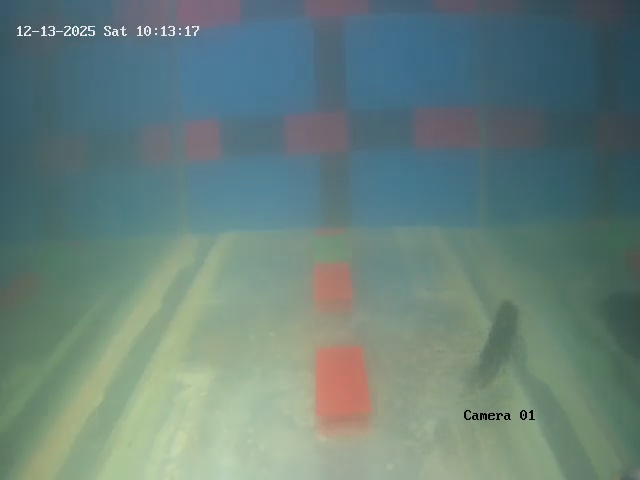fish: (475, 302, 530, 396)
